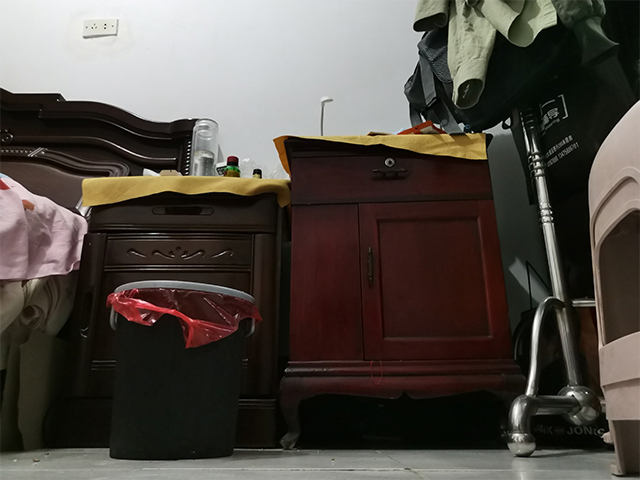cabinet: (269, 129, 530, 452), (63, 171, 289, 452)
stool: (584, 98, 640, 479)
trashcan: (105, 277, 261, 462)
